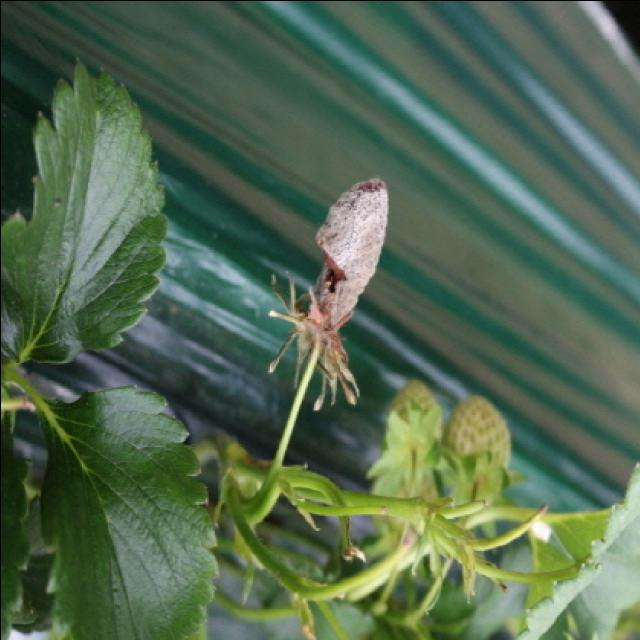Gray Mold: (267, 176, 389, 411)
